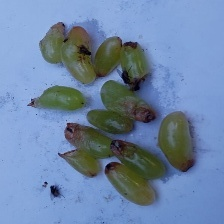grapes: (5, 42, 190, 178)
